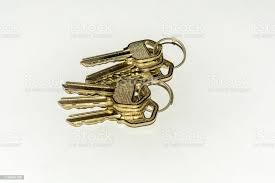key: (63, 76, 155, 105), (80, 36, 164, 66)
